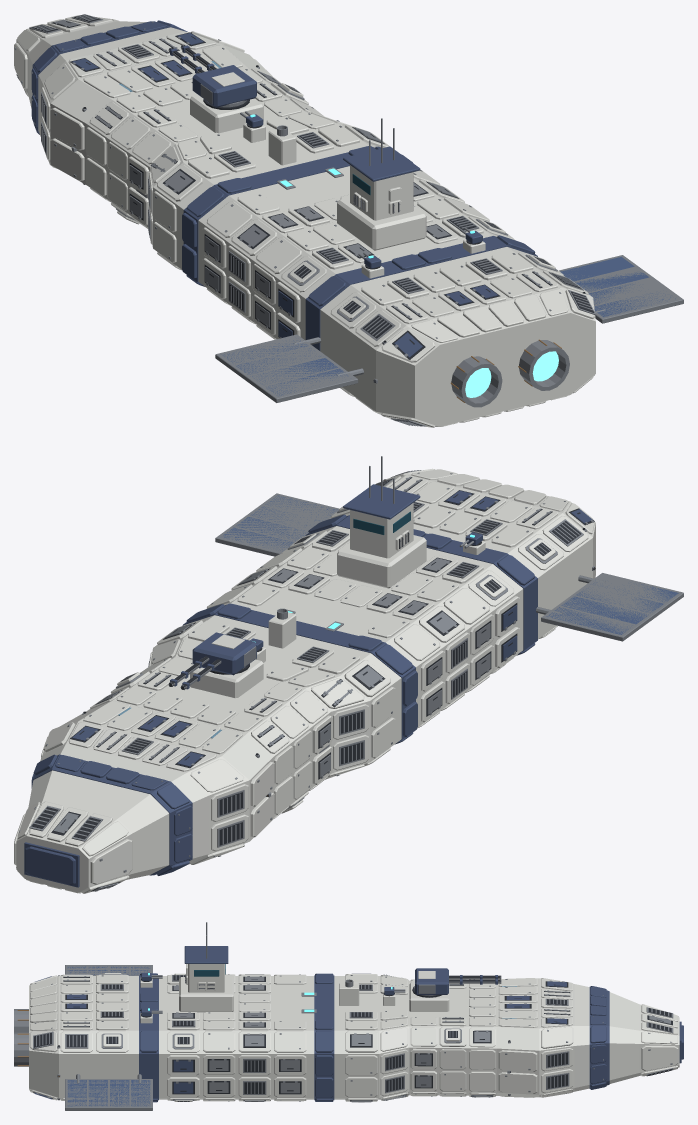
File: earth_starter_escort.glb
The picture shows the model from 3 angles, top to bottom: view 1: azimuth 30°, elevation 25°; view 2: azimuth 150°, elevation 25°; view 3: azimuth 270°, elevation 25°; orthographic projection. The views are drawn at different scales.
Parts seen in each view (by area): view 1: FleetHull, mesh_turret_gun_1; view 2: FleetHull, mesh_turret_gun_1; view 3: FleetHull, mesh_turret_gun_1, mesh_recoil_gun_1.
Part boxes in pixels (left/top/right/bottom): FleetHull: left=14, top=14, right=683, bottom=427; mesh_turret_gun_1: left=192, top=65, right=256, bottom=107; FleetHull: left=14, top=456, right=683, bottom=893; mesh_turret_gun_1: left=192, top=632, right=256, bottom=675; FleetHull: left=14, top=922, right=683, bottom=1110; mesh_turret_gun_1: left=414, top=968, right=448, bottom=995; mesh_recoil_gun_1: left=449, top=975, right=501, bottom=984.
Bounding box in the file's own units: 135 × 69.83 × 268.
